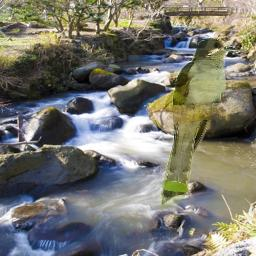Cuckoo: (160, 37, 237, 210)
